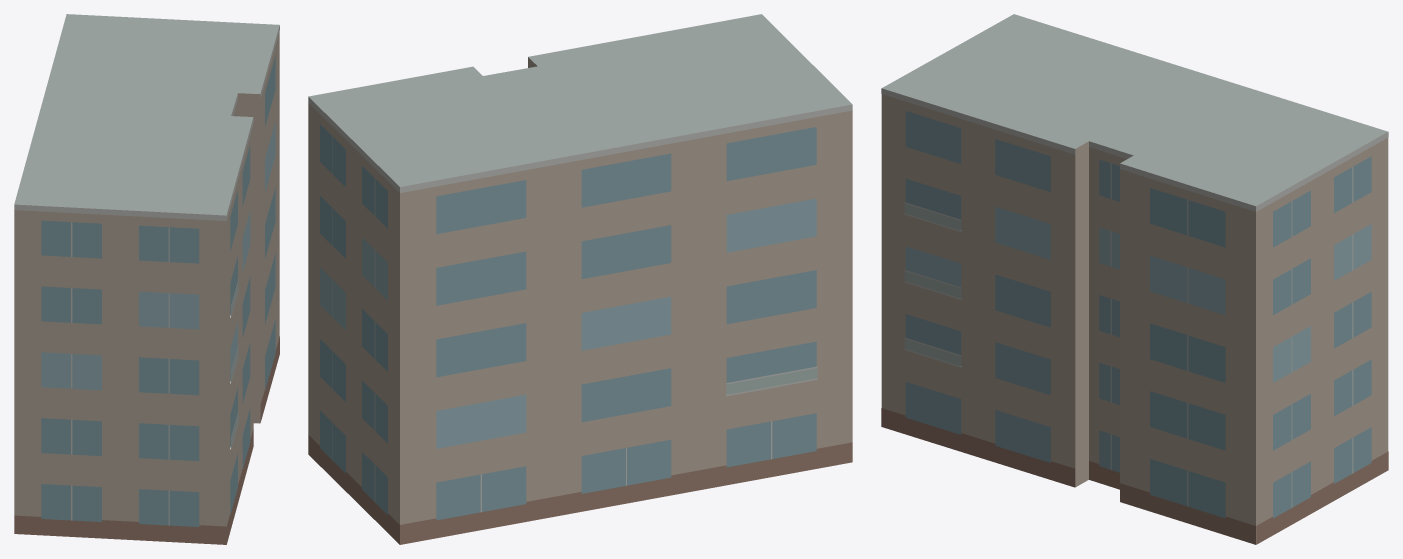
Rendered from survey-upis-32578324.glb.
The picture shows the model from 3 angles, left to right: view 1: azimuth 30°, elevation 25°; view 2: azimuth 150°, elevation 25°; view 3: azimuth 270°, elevation 25°; orthographic projection. The views are drawn at different scales.
Visible parts, largest first — view 1: survey-upis-32578324.tmp; view 2: survey-upis-32578324.tmp; view 3: survey-upis-32578324.tmp.
Part boxes in pixels (x1=…): survey-upis-32578324.tmp: x1=14, y1=14, x2=279, y2=544; survey-upis-32578324.tmp: x1=308, y1=14, x2=852, y2=544; survey-upis-32578324.tmp: x1=881, y1=14, x2=1388, y2=544.
Bounding box in the file's own units: 17.79 × 14.6 × 19.82.
